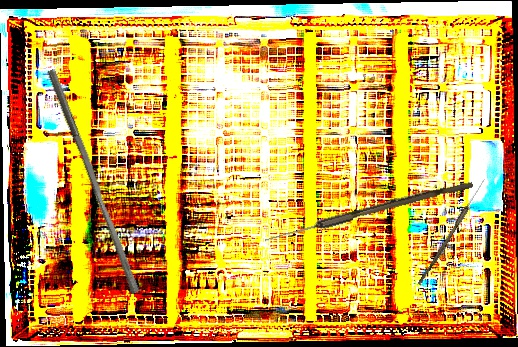Pusher: (37, 68, 149, 295)
Surgical Spoon: (263, 176, 474, 247), (417, 177, 487, 287)
